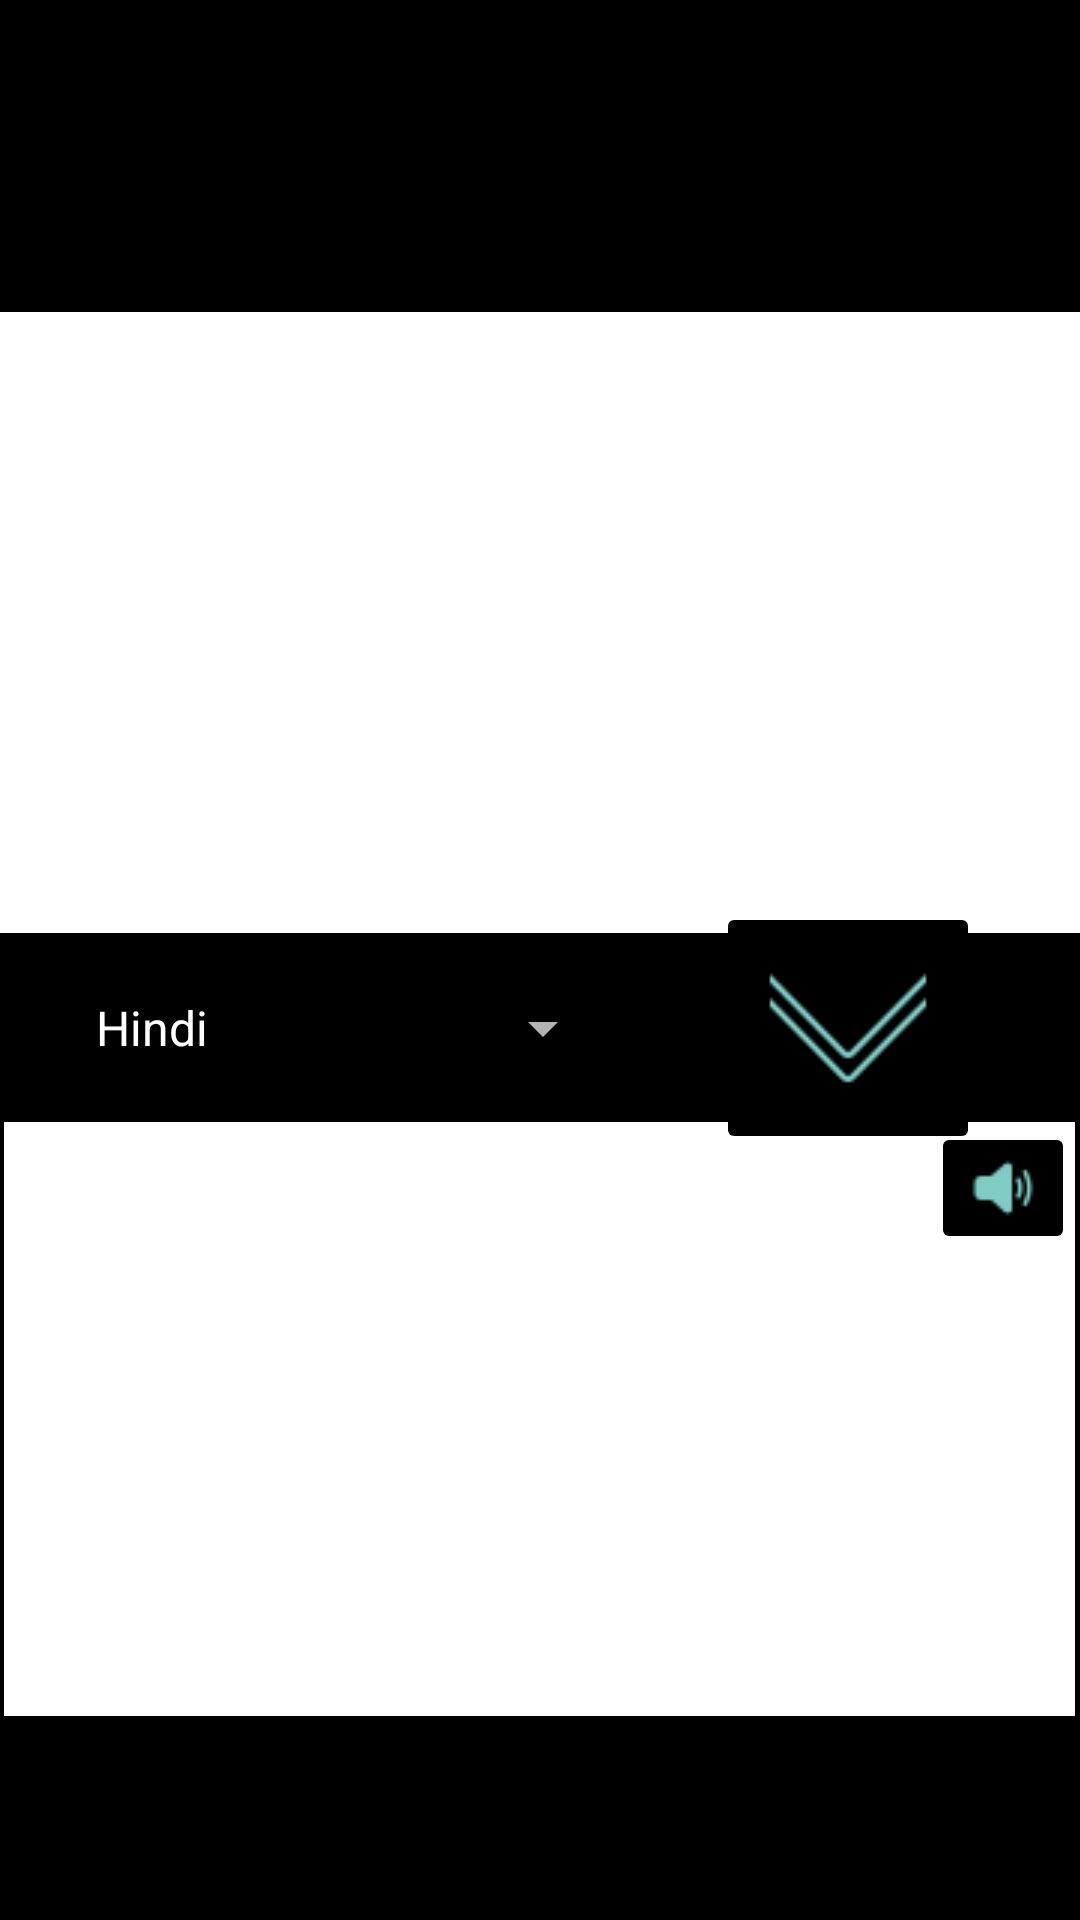

Icon click points for this 1080px x 1920px phone screenshot, format [x,y]:
double down: [848,1028]
voice: [1003,1188]
